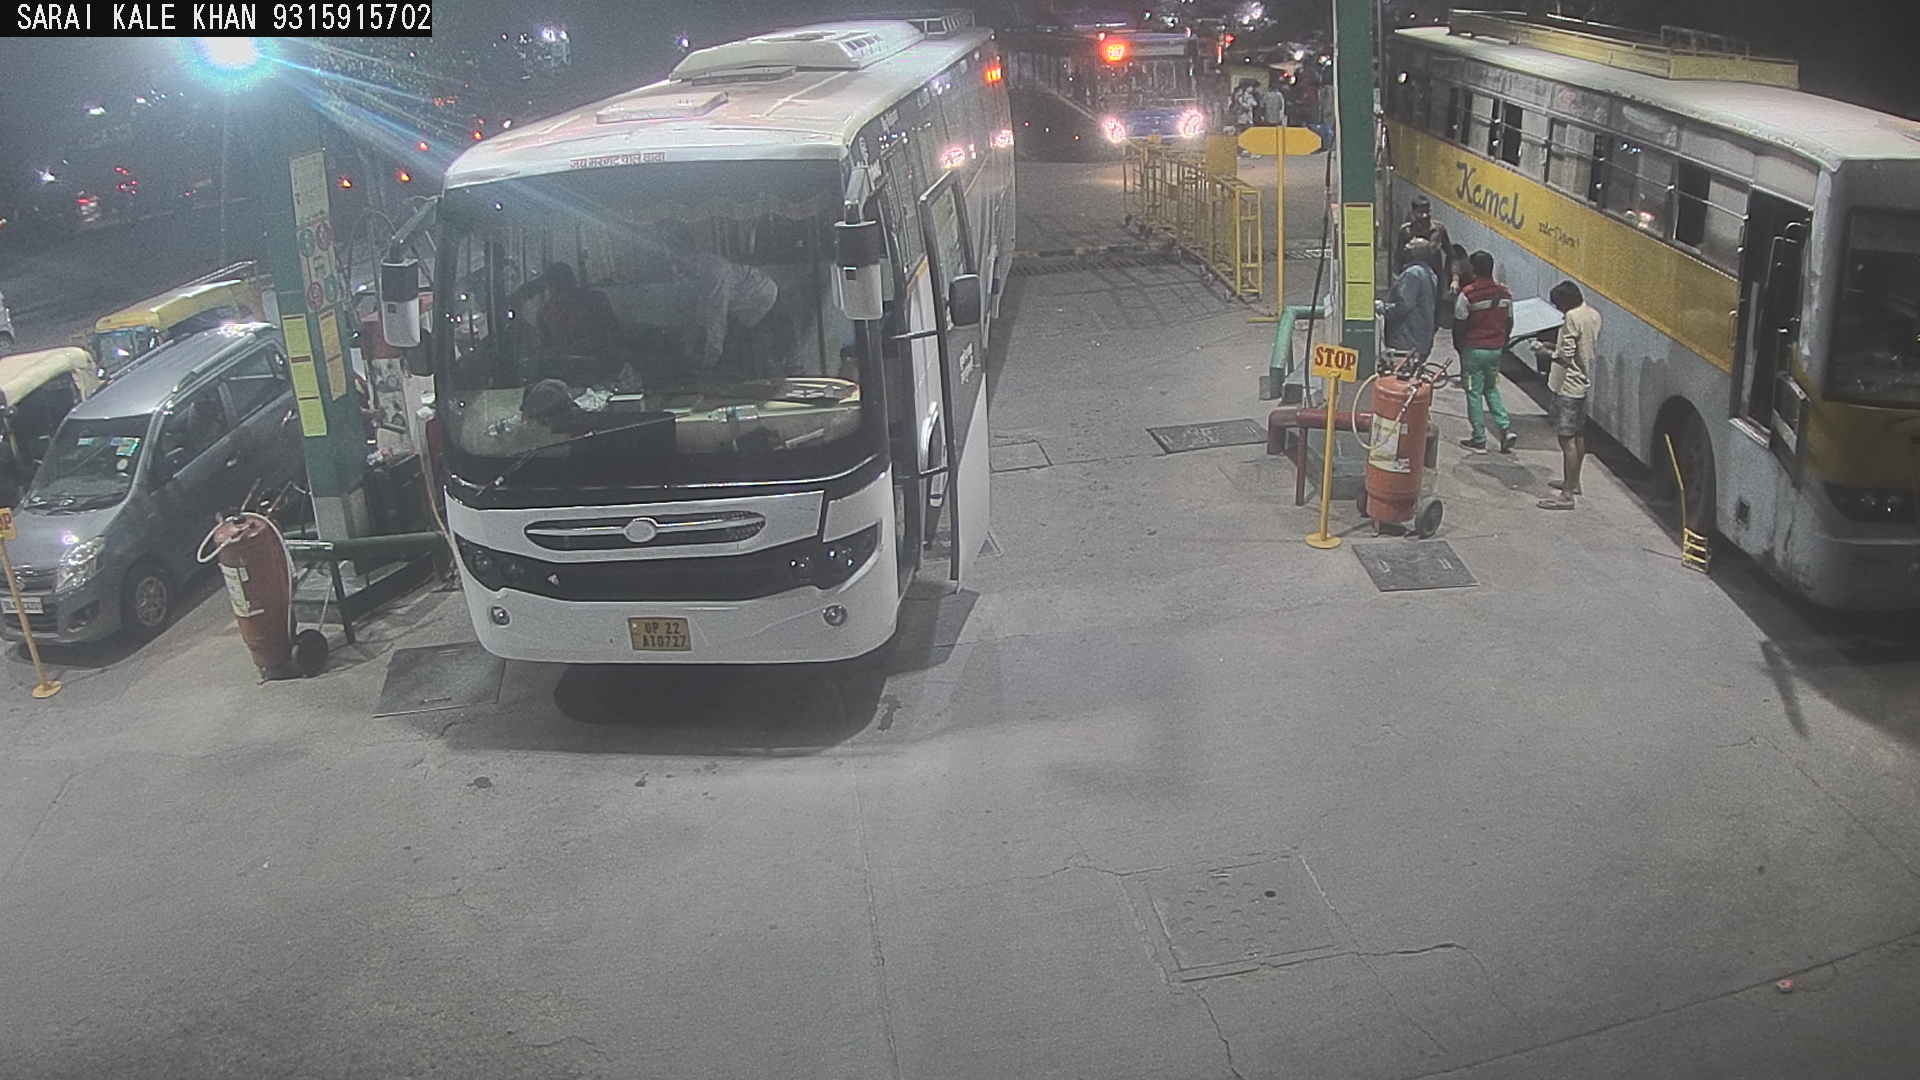Auto: (1, 328, 119, 620), (67, 260, 284, 406), (1197, 45, 1302, 140)
Car: (0, 287, 322, 688), (0, 276, 22, 373)
HMV: (360, 1, 1044, 711), (1360, 1, 1917, 653), (976, 0, 1230, 170)
Others: (1445, 245, 1524, 467)
Others Other: (0, 491, 71, 702), (1303, 339, 1365, 553)
